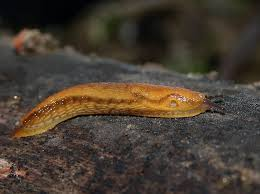slug: (10, 81, 225, 138)
